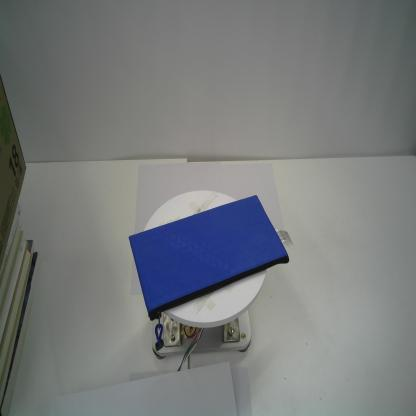Stationery: (126, 192, 291, 324)
